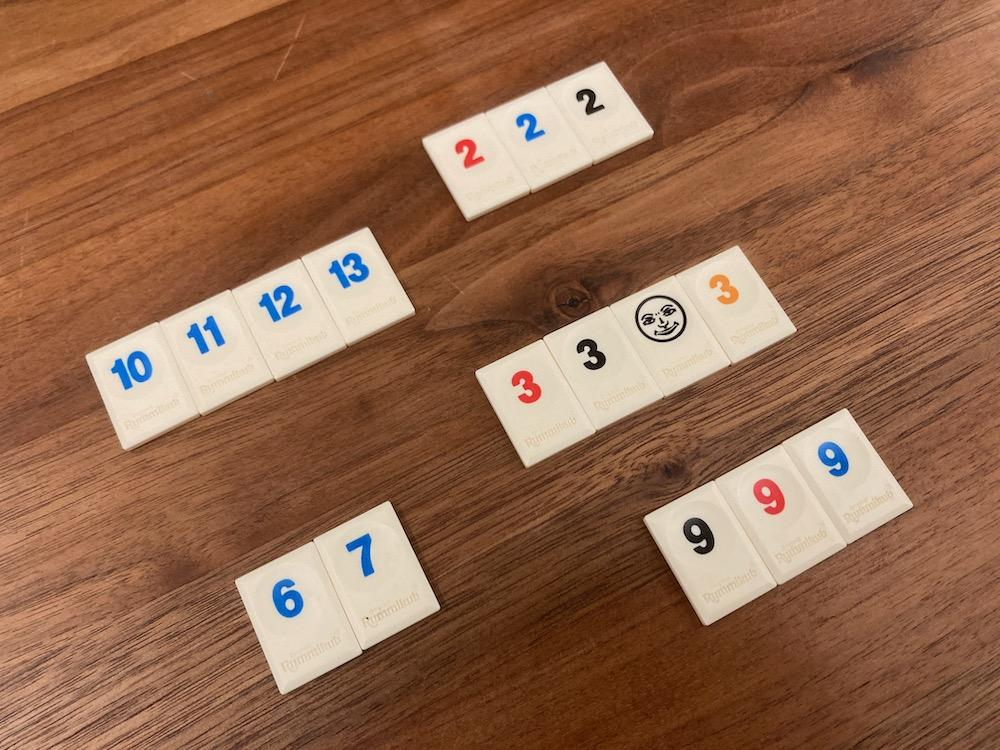black_2: (547, 62, 652, 164)
black_3: (546, 307, 662, 430)
black_9: (646, 482, 775, 625)
blue_10: (86, 322, 197, 449)
blue_11: (162, 291, 273, 414)
blue_12: (232, 260, 346, 381)
blue_13: (301, 227, 414, 344)
blue_2: (488, 88, 592, 191)
blue_6: (236, 543, 361, 693)
blue_7: (314, 502, 439, 650)
blue_9: (783, 410, 912, 541)
joker: (612, 277, 730, 396)
orange_3: (678, 246, 795, 363)
red_2: (422, 113, 529, 221)
red_3: (477, 340, 596, 467)
red_9: (717, 445, 846, 584)
